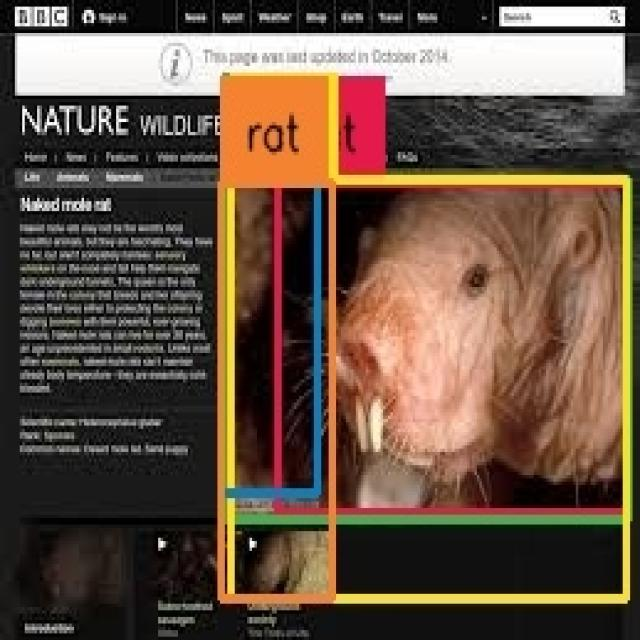rat: (232, 182, 628, 597), (225, 181, 628, 518), (278, 182, 626, 514), (222, 183, 332, 599), (221, 183, 318, 493)
